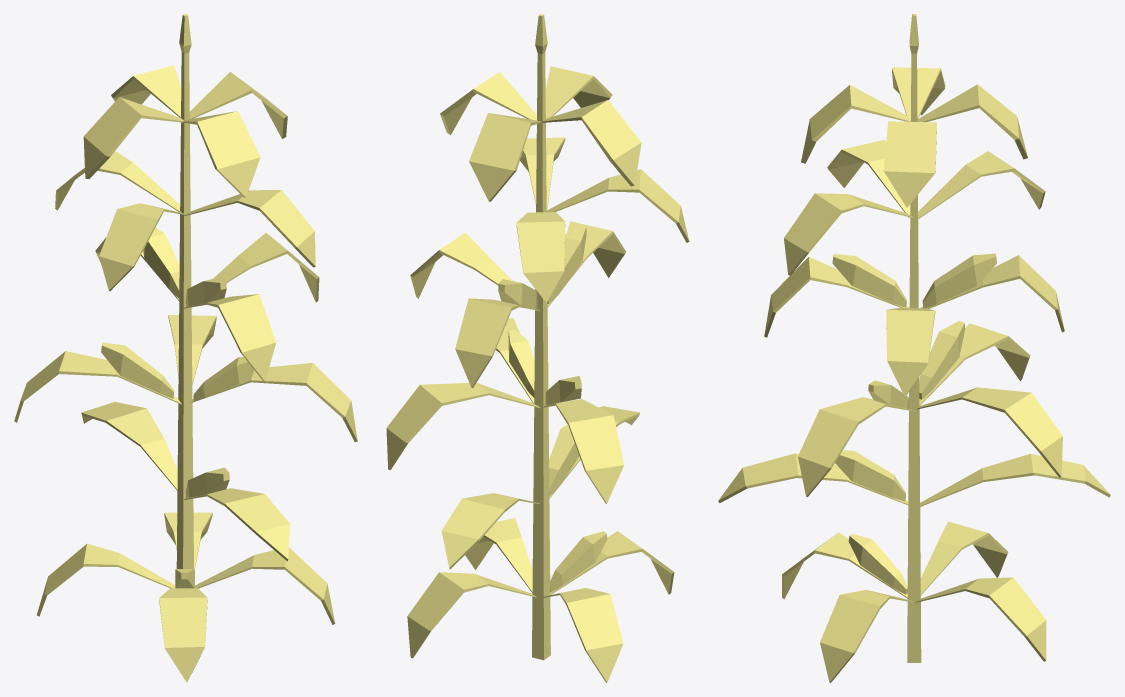
File: flower_parts.glb
The picture shows the model from 3 angles, left to right: view 1: azimuth 30°, elevation 25°; view 2: azimuth 150°, elevation 25°; view 3: azimuth 270°, elevation 25°; orthographic projection.
Visible parts, largest first — view 1: Corn_2; view 2: Corn_2; view 3: Corn_2.
Part boxes in pixels (bbox=[...]): Corn_2: bbox=[14, 14, 357, 682]; Corn_2: bbox=[386, 14, 689, 682]; Corn_2: bbox=[718, 14, 1110, 682].
Bounding box in the file's own units: 74.73 × 180 × 99.33.
